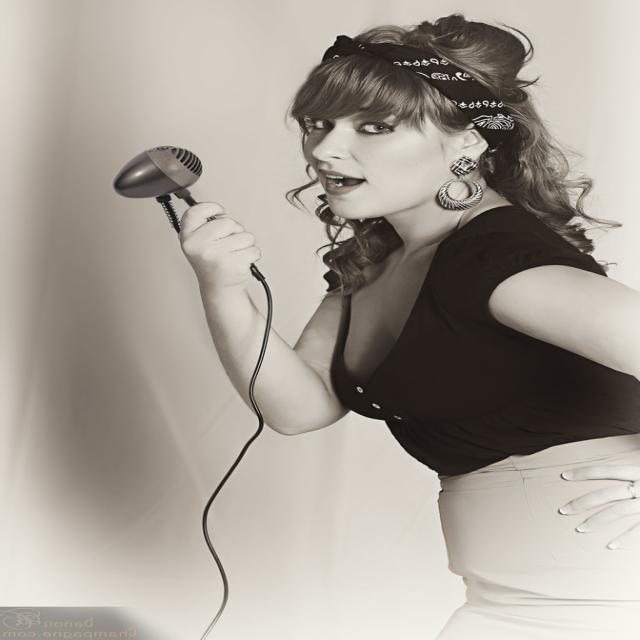dryer: (92, 130, 280, 413)
